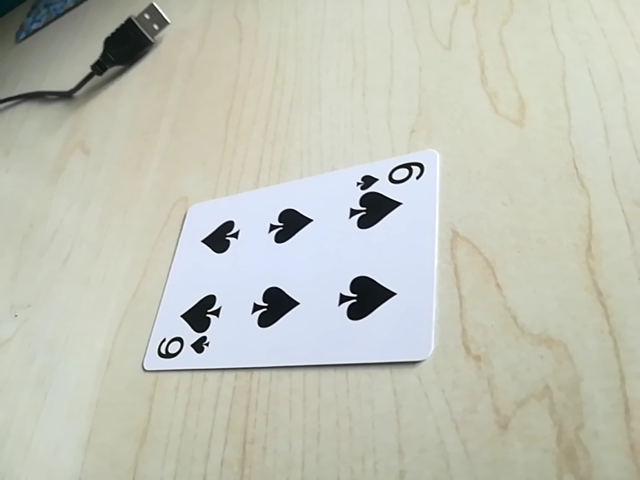ht 6: (355, 158, 427, 191), (148, 333, 213, 367)
